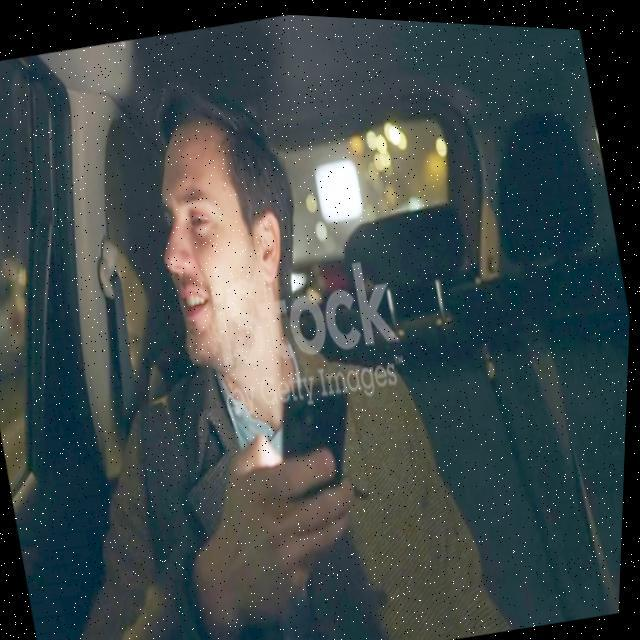PhoneCall: (268, 364, 375, 531)
